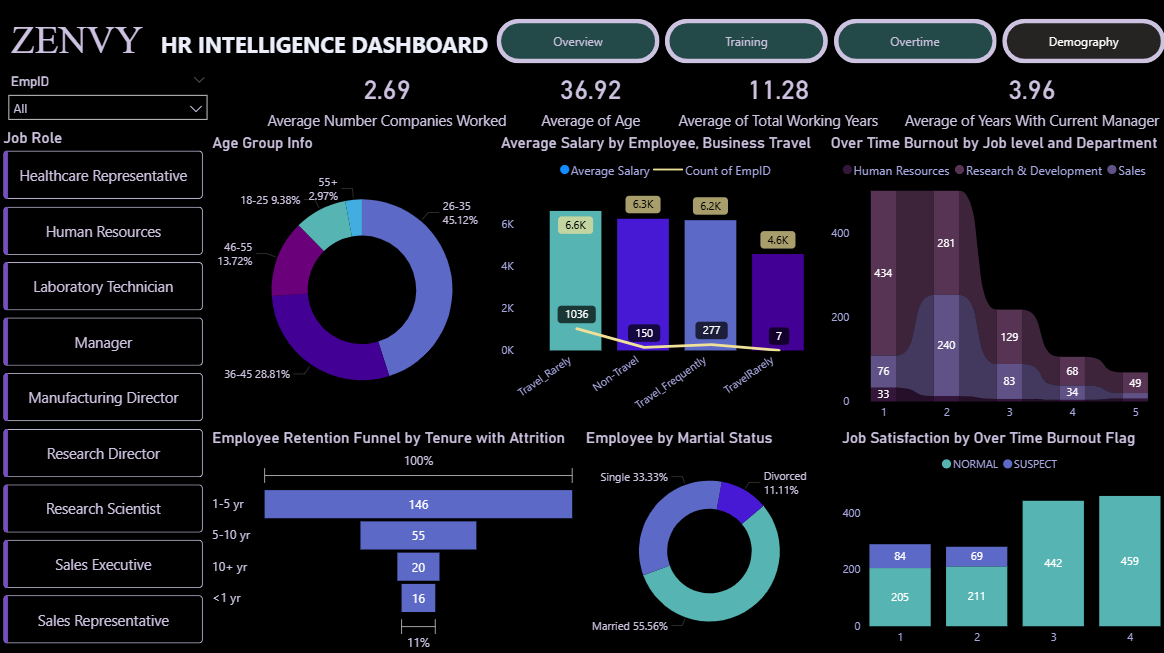

This screenshot's page, from the dashboard's own definition file:
{"tool":"powerbi","page":{"name":"Demography","canvas":[1280,720],"ordinal":3},"visuals":[{"type":"card","fields":{"Values":["Avg(clean HR data.TotalWorkingYears)"]},"box":[735.1,46.3,240.1,122.1],"z":0},{"type":"funnel","title":"Employee Retention Funnel by Tenure with Attrition","fields":{"Category":["clean HR data.Tenure Group"],"Y":["_Measures.Tenure Attrition Count"]},"box":[229.2,470.7,410.3,249.7],"z":1000},{"type":"ribbonChart","title":"Over Time Burnout by Job level and Department","fields":{"Category":["clean HR data.JobLevel"],"Y":["CountNonNull(clean HR data.OT Burnout Flag)"],"Series":["clean HR data.Department"]},"box":[908.4,146.8,371.9,323.8],"z":2000},{"type":"textbox","box":[8.2,13.7,558.5,63.1],"z":3000},{"type":"card","fields":{"Values":["Avg(clean HR data.Age)"]},"box":[578.2,57.3,144.1,100.2],"z":4000},{"type":"donutChart","title":"Age Group Info","fields":{"Y":["CountNonNull(clean HR data.AgeGroup)"],"Category":["clean HR data.AgeGroup"]},"box":[229.2,146.8,338.9,323.8],"z":5000},{"type":"donutChart","title":"Employee by Martial Status","fields":{"Y":["CountNonNull(clean HR data.EmpID)"],"Category":["clean HR data.MaritalStatus"]},"box":[639.5,470.7,281.3,249.7],"z":6000},{"type":"card","fields":{"Values":["Avg(clean HR data.NumCompaniesWorked)"]},"box":[286.8,61.4,278.6,91.9],"z":7000},{"type":"slicer","fields":{"Values":["clean HR data.EmpID"]},"box":[0,75.5,238.8,65.9],"z":8000},{"type":"advancedSlicerVisual","title":"Job Role","fields":{"Values":["clean HR data.JobRole"]},"box":[0,141.3,229.2,576.3],"z":9000},{"type":"columnChart","title":"Job Satisfaction by Over Time Burnout Flag ","fields":{"Category":["clean HR data.JobSatisfaction"],"Y":["CountNonNull(clean HR data.EmpID)"],"Series":["clean HR data.OT Burnout Flag"]},"box":[920.8,470.7,359.5,247],"z":10000},{"type":"lineStackedColumnComboChart","title":"Average Salary by Employee, Business Travel","fields":{"Y2":["CountNonNull(clean HR data.EmpID)"],"Category":["clean HR data.BusinessTravel"],"Y":["_Measures.Average Salary"]},"box":[546.1,146.8,374.6,323.8],"z":11000},{"type":"card","fields":{"Values":["Avg(clean HR data.YearsWithCurrManager)"]},"box":[987.7,46.3,292.3,122.1],"z":12000},{"type":"pageNavigator","box":[546.1,20.6,734.1,49.4],"z":13000}]}

Visuals, with their boxes in screenshot pixels (x1, y1, x2, y2), scaled from the page's 1280x720 canvas onto the 1164x653 screenshot:
card - Avg(clean HR data.TotalWorkingYears): pyautogui.locateOnScreen(668, 42, 887, 153)
"Employee Retention Funnel by Tenure with Attrition" funnel: pyautogui.locateOnScreen(208, 427, 582, 652)
"Over Time Burnout by Job level and Department" ribbonChart: pyautogui.locateOnScreen(826, 133, 1163, 427)
textbox: pyautogui.locateOnScreen(7, 12, 515, 70)
card - Avg(clean HR data.Age): pyautogui.locateOnScreen(526, 52, 657, 143)
"Age Group Info" donutChart: pyautogui.locateOnScreen(208, 133, 517, 427)
"Employee by Martial Status" donutChart: pyautogui.locateOnScreen(582, 427, 837, 652)
card - Avg(clean HR data.NumCompaniesWorked): pyautogui.locateOnScreen(261, 56, 514, 139)
slicer - clean HR data.EmpID: pyautogui.locateOnScreen(0, 68, 217, 128)
"Job Role" advancedSlicerVisual: pyautogui.locateOnScreen(0, 128, 208, 651)
"Job Satisfaction by Over Time Burnout Flag " columnChart: pyautogui.locateOnScreen(837, 427, 1163, 651)
"Average Salary by Employee, Business Travel" lineStackedColumnComboChart: pyautogui.locateOnScreen(497, 133, 837, 427)
card - Avg(clean HR data.YearsWithCurrManager): pyautogui.locateOnScreen(898, 42, 1163, 153)
pageNavigator: pyautogui.locateOnScreen(497, 19, 1163, 63)
